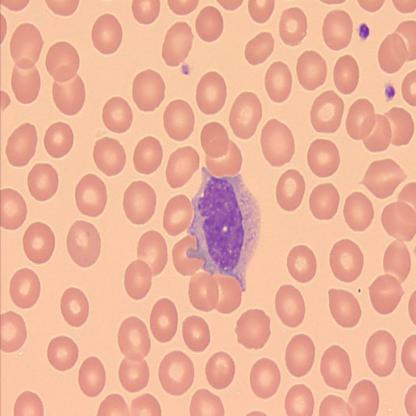Monocyte: (185, 164, 261, 293)
